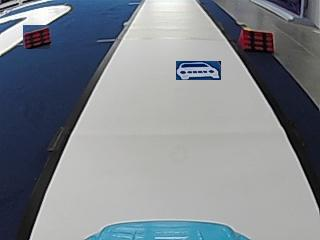bomb: (236, 27, 274, 51)
